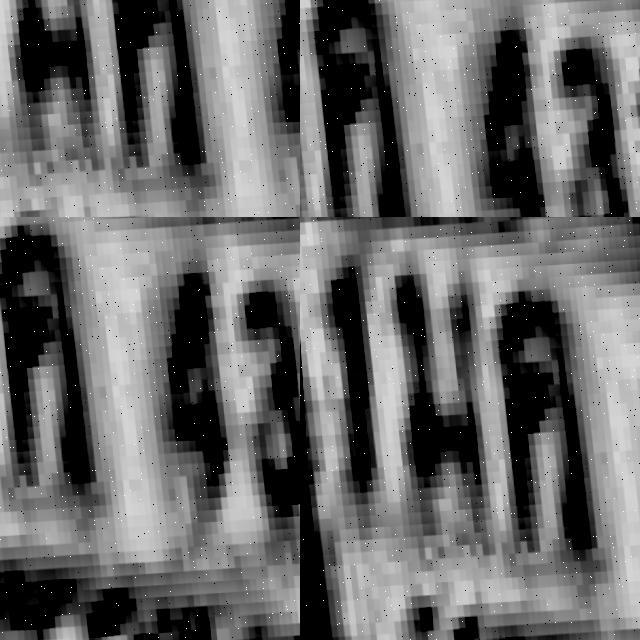license-plate: (300, 217, 640, 640), (0, 217, 300, 640), (300, 0, 640, 217), (0, 0, 300, 217)
